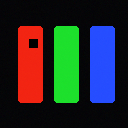1 square: (29, 39, 37, 47)
